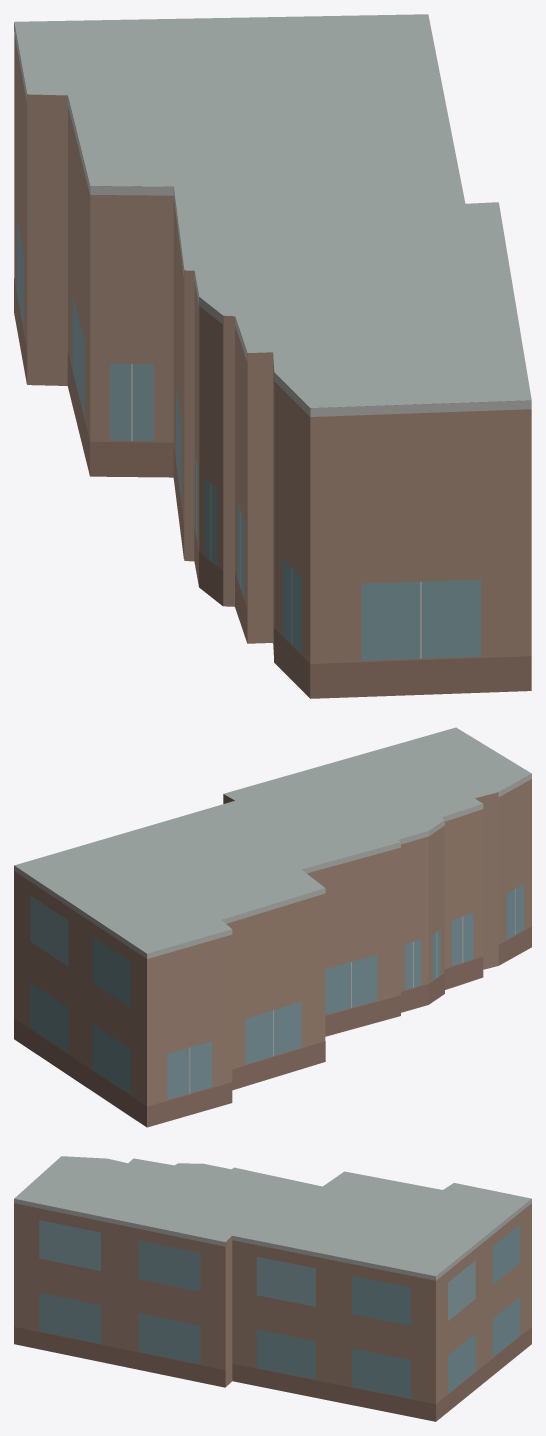
Rendered from survey-upis-32533991.glb.
The picture shows the model from 3 angles, top to bottom: view 1: azimuth 30°, elevation 25°; view 2: azimuth 150°, elevation 25°; view 3: azimuth 270°, elevation 25°; orthographic projection. The views are drawn at different scales.
Visible parts, largest first — view 1: survey-upis-32533991.tmp; view 2: survey-upis-32533991.tmp; view 3: survey-upis-32533991.tmp.
Boxes of the visible parts, x1,y1,x2,y2 form: survey-upis-32533991.tmp: (14, 14, 531, 698); survey-upis-32533991.tmp: (14, 727, 531, 1127); survey-upis-32533991.tmp: (14, 1156, 531, 1421).
Size of the model in its own units: 14.01 by 7.9 by 25.5.
